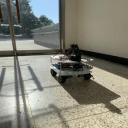cart: (50, 56, 95, 83)
